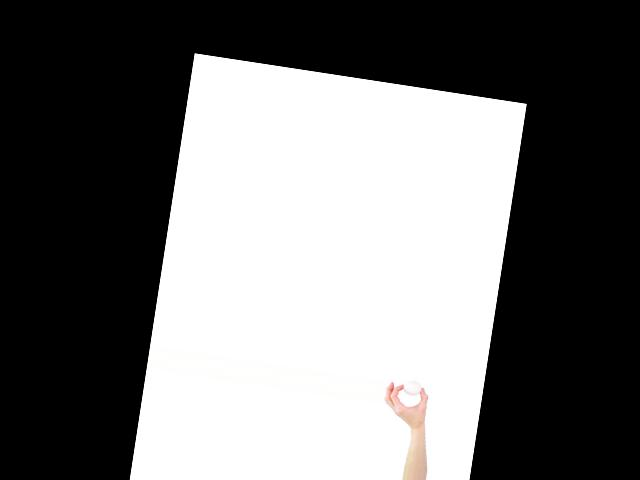egg: (402, 379, 422, 397)
